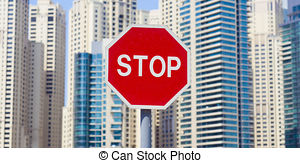stop: (105, 25, 191, 109), (117, 27, 190, 109), (105, 25, 191, 82), (105, 27, 159, 109), (105, 26, 190, 72)
